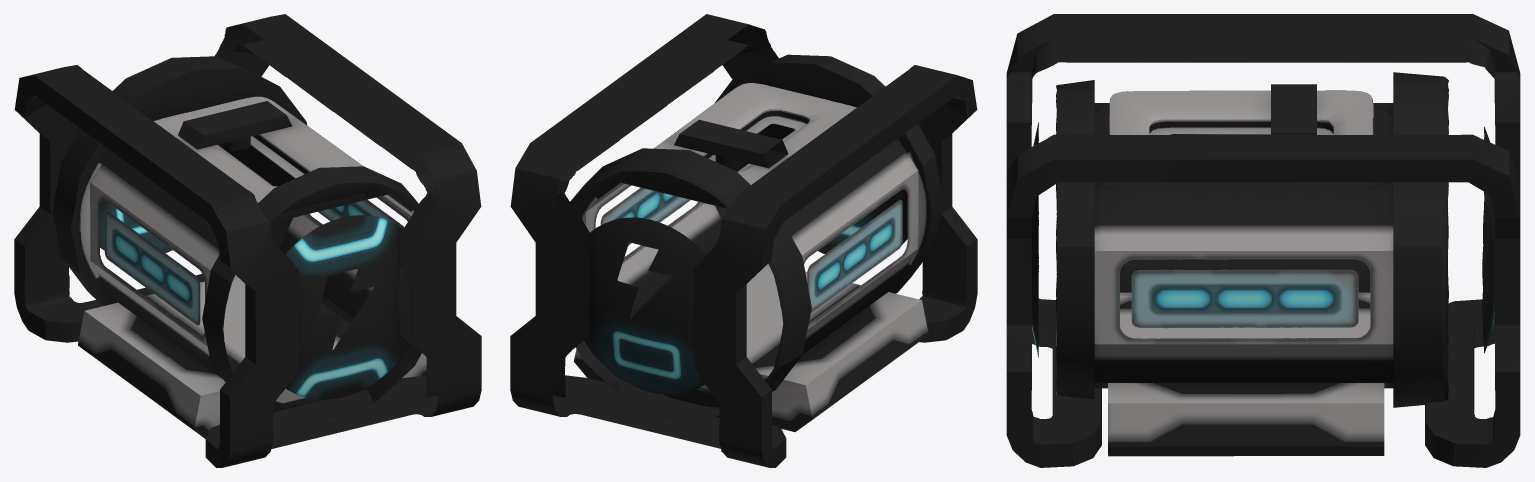
Rendered from obj_interactive_electricengine_04_off.fbx.
3 views of the same model, side by side, from view 1: azimuth 30°, elevation 25°; view 2: azimuth 150°, elevation 25°; view 3: azimuth 270°, elevation 25° (orthographic). The views are drawn at different scales.
Visible parts, largest first — view 1: obj_interactive_electricengine_04_off; view 2: obj_interactive_electricengine_04_off; view 3: obj_interactive_electricengine_04_off.
Part boxes in pixels (x1,y1,x2,y2): obj_interactive_electricengine_04_off: (14, 14, 481, 467); obj_interactive_electricengine_04_off: (510, 14, 977, 467); obj_interactive_electricengine_04_off: (1006, 14, 1520, 467).
Bounding box in the file's own units: 2.02 × 2 × 3.
